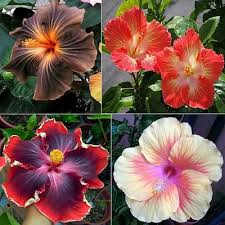hybiscus: (113, 118, 225, 224)
